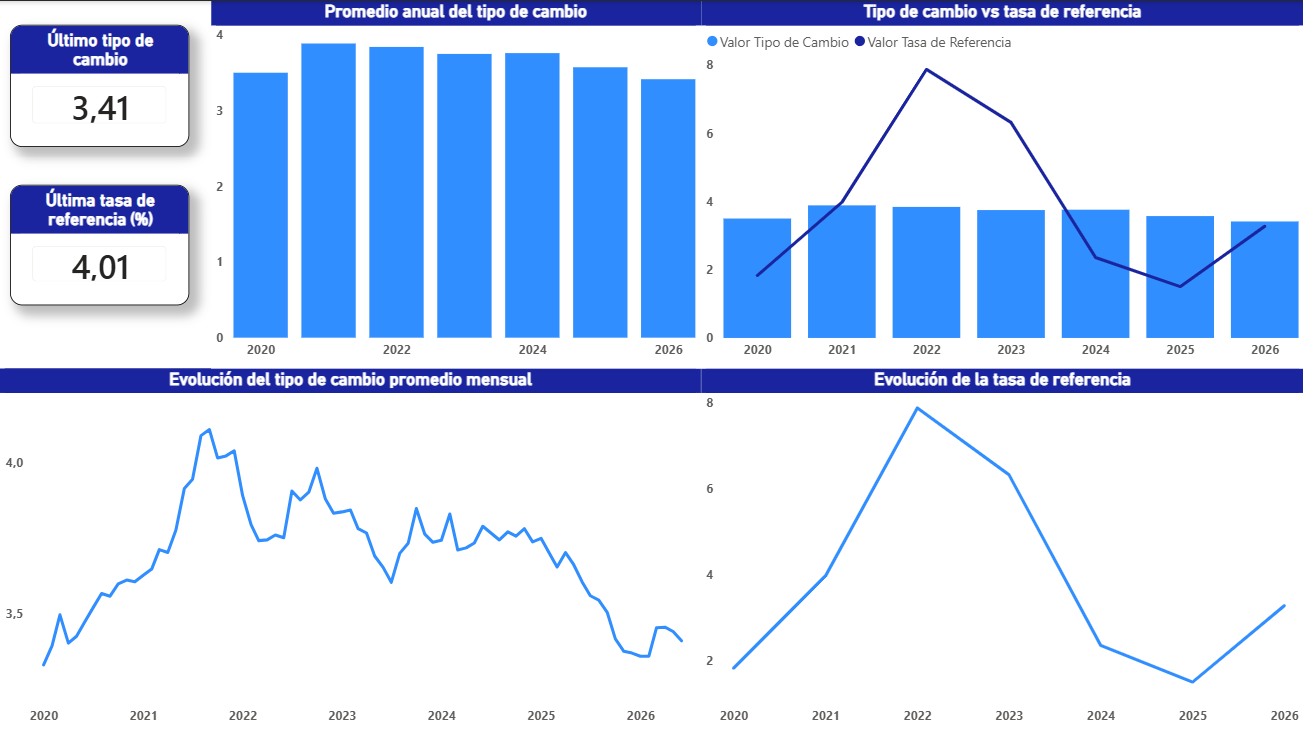

This screenshot's page, from the dashboard's own definition file:
{"tool":"powerbi","page":{"name":"Tipo de cambio y tasa de referencia","canvas":[1280,720],"ordinal":2},"visuals":[{"type":"cardVisual","title":"Último tipo de cambio","fields":{"Data":["fact_indicadores.Último Tipo de Cambio"]},"box":[10.1,23.1,176,119.7],"z":0},{"type":"cardVisual","title":"Última tasa de referencia (%)","fields":{"Data":["fact_indicadores.Última Tasa de Referencia"]},"box":[10.1,180.3,176,118.3],"z":1000},{"type":"lineChart","title":"Evolución del tipo de cambio promedio mensual","fields":{"Y":["fact_indicadores.Valor Tipo de Cambio"],"Category":["dim_fecha.fecha.Variación.Jerarquía de fechas.Año","dim_fecha.fecha.Variación.Jerarquía de fechas.Trimestre","dim_fecha.fecha.Variación.Jerarquía de fechas.Mes","dim_fecha.fecha.Variación.Jerarquía de fechas.Día"]},"box":[0,360.7,688.2,359.2],"z":2000},{"type":"clusteredColumnChart","title":"Promedio anual del tipo de cambio","fields":{"Category":["dim_fecha.anio"],"Y":["fact_indicadores.Valor Tipo de Cambio"]},"box":[207.8,0,480.4,360.7],"z":3000},{"type":"lineChart","title":"Evolución de la tasa de referencia","fields":{"Category":["dim_fecha.fecha.Variación.Jerarquía de fechas.Año","dim_fecha.fecha.Variación.Jerarquía de fechas.Trimestre","dim_fecha.fecha.Variación.Jerarquía de fechas.Mes","dim_fecha.fecha.Variación.Jerarquía de fechas.Día"],"Y":["fact_indicadores.Valor Tasa de Referencia"]},"box":[688.2,360.7,591.5,359.2],"z":4000},{"type":"lineClusteredColumnComboChart","title":"Tipo de cambio vs tasa de referencia","fields":{"Category":["dim_fecha.fecha.Variación.Jerarquía de fechas.Año","dim_fecha.fecha.Variación.Jerarquía de fechas.Trimestre","dim_fecha.fecha.Variación.Jerarquía de fechas.Mes","dim_fecha.fecha.Variación.Jerarquía de fechas.Día"],"Y":["fact_indicadores.Valor Tipo de Cambio"],"Y2":["fact_indicadores.Valor Tasa de Referencia"]},"box":[688.2,0,591.5,360.7],"z":5000}]}

Visuals, with their boxes in screenshot pixels (x1, y1, x2, y2), scaled from the page's 1280x720 canvas onto the 1303x731 screenshot:
"Último tipo de cambio" cardVisual: <box>10,23,189,145</box>
"Última tasa de referencia (%)" cardVisual: <box>10,183,189,303</box>
"Evolución del tipo de cambio promedio mensual" lineChart: <box>0,366,701,730</box>
"Promedio anual del tipo de cambio" clusteredColumnChart: <box>212,0,701,366</box>
"Evolución de la tasa de referencia" lineChart: <box>701,366,1302,730</box>
"Tipo de cambio vs tasa de referencia" lineClusteredColumnComboChart: <box>701,0,1302,366</box>
